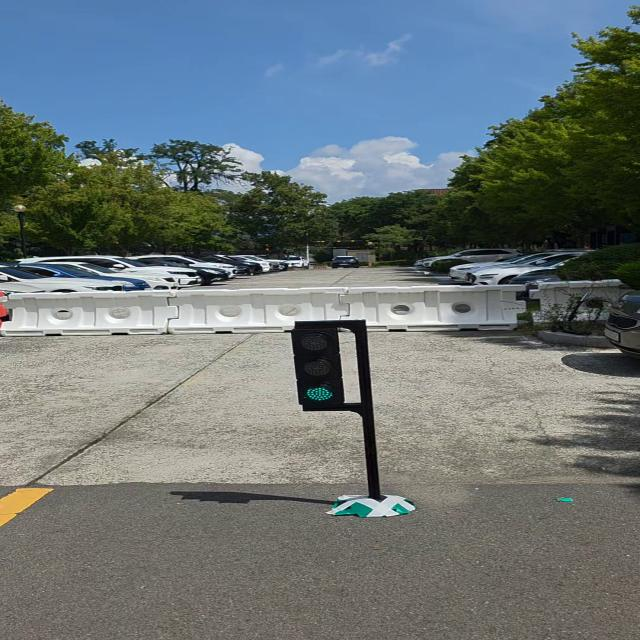green: (289, 331, 345, 410)
